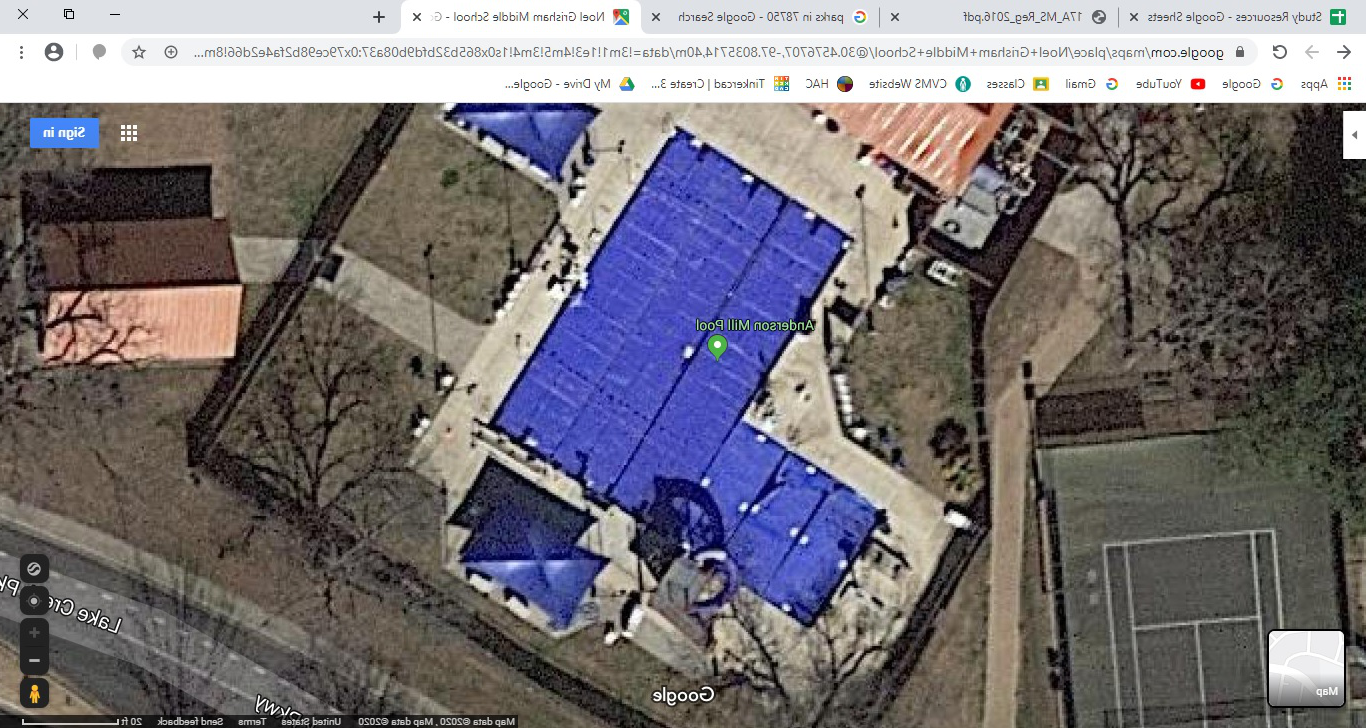pool: (420, 113, 903, 651)
